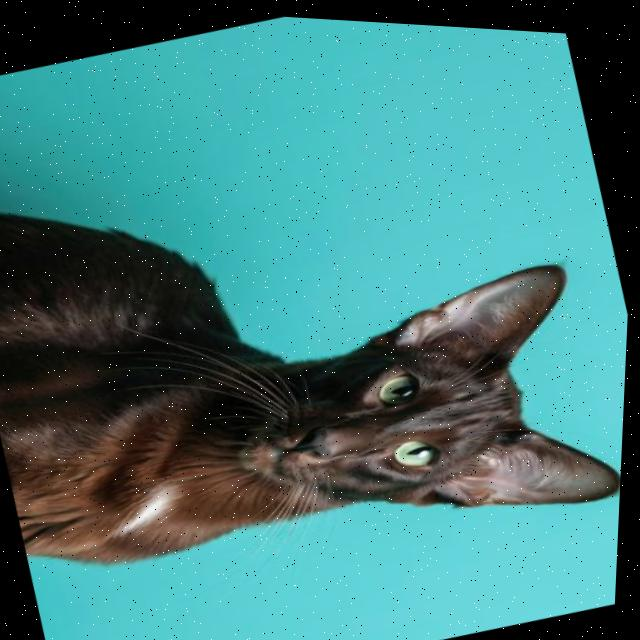Oriental: (0, 43, 638, 640)
